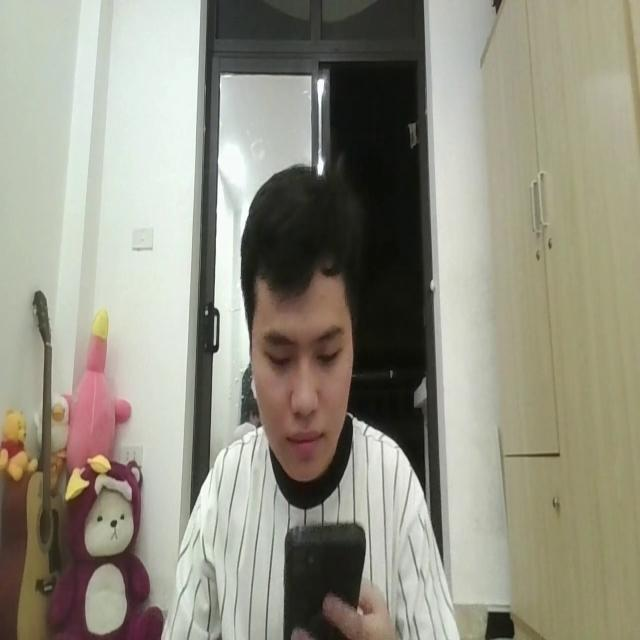phone: (283, 514, 366, 636)
student: (174, 162, 454, 640)
